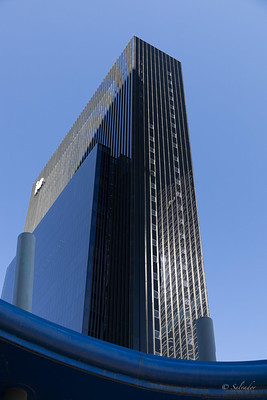medium: (14, 32, 218, 364)
